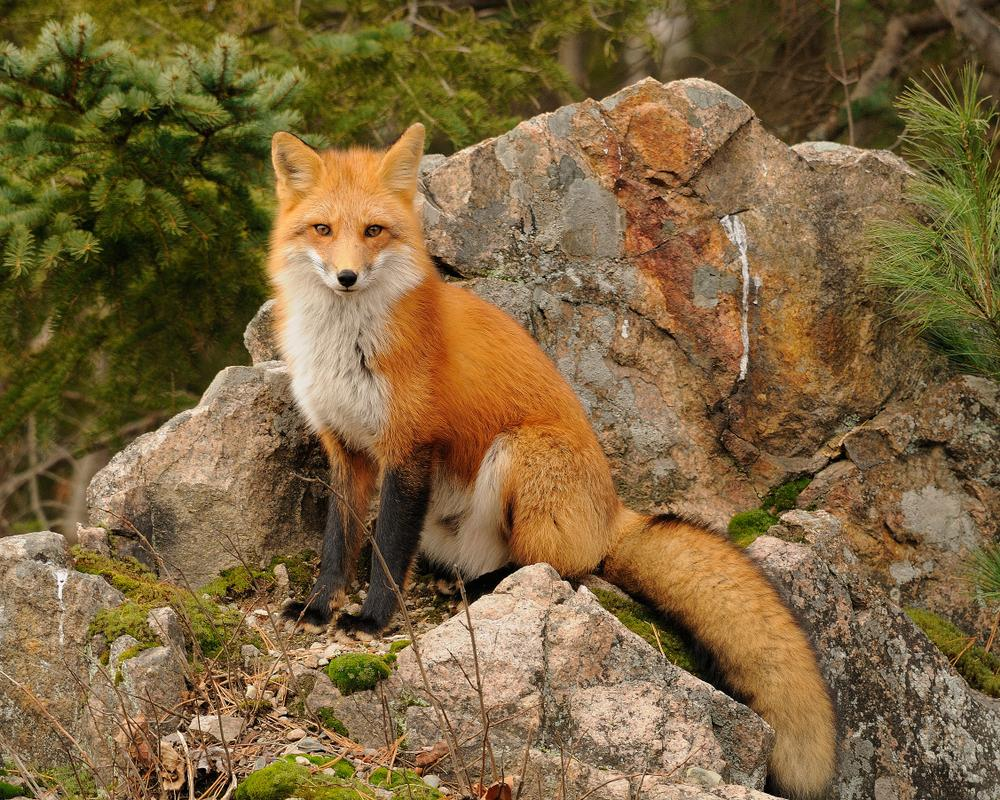fox: (253, 117, 633, 647)
